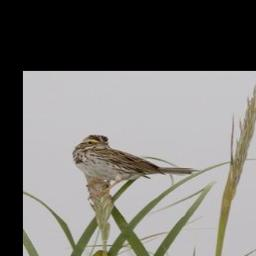Sparrow: (72, 133, 204, 200)
